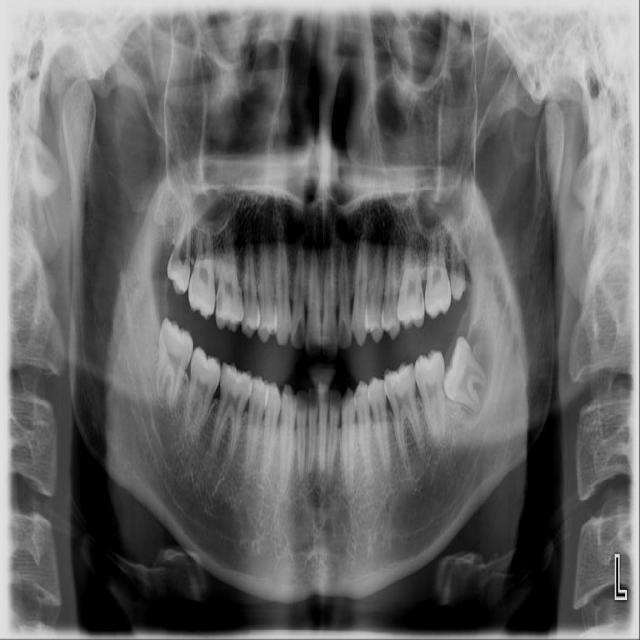Caries: (216, 291, 223, 311)
impacted tooth: (443, 335, 495, 410)
